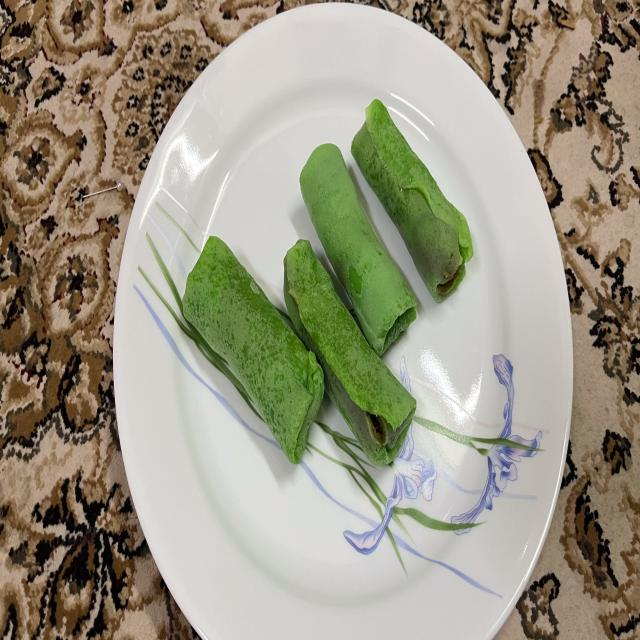Kuih-Ketayap: (182, 236, 324, 464), (284, 240, 416, 464), (351, 100, 474, 302), (300, 144, 416, 356)
